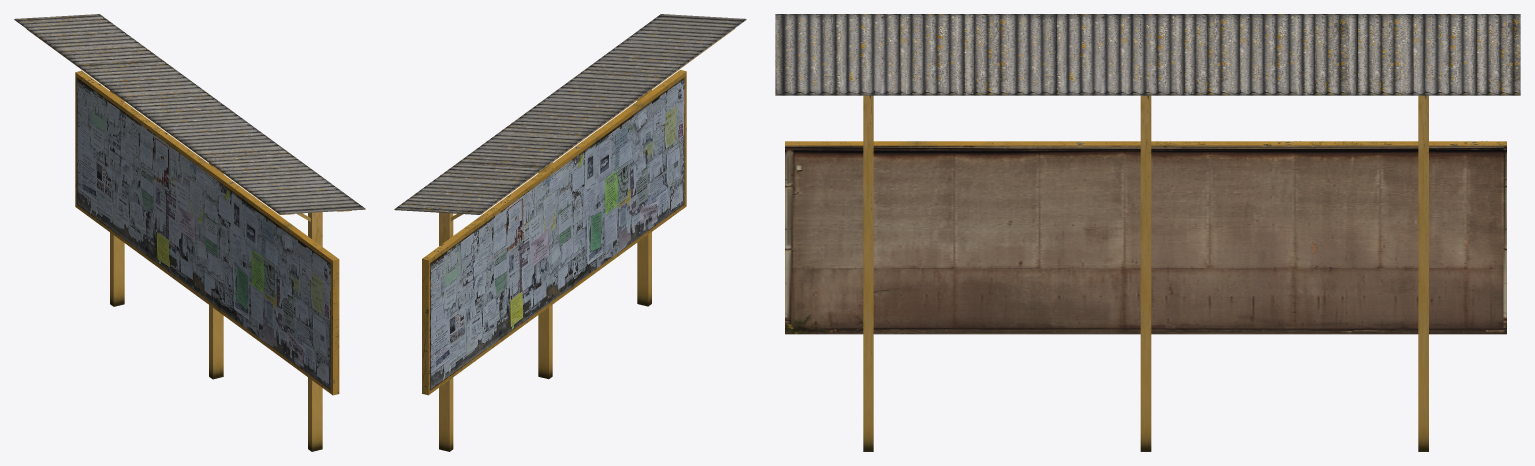
The model's file is d_obyavlenia.FBX.
The picture shows the model from 3 angles, left to right: view 1: azimuth 30°, elevation 25°; view 2: azimuth 150°, elevation 25°; view 3: azimuth 270°, elevation 25°; orthographic projection. The views are drawn at different scales.
Visible parts, largest first — view 1: d_obyavlenia; view 2: d_obyavlenia; view 3: d_obyavlenia.
Boxes of the visible parts, left/top/right/bottom form: d_obyavlenia: left=14, top=14, right=365, bottom=451; d_obyavlenia: left=394, top=14, right=746, bottom=451; d_obyavlenia: left=775, top=14, right=1520, bottom=451.
Bounding box in the file's own units: 0.7961 × 4.3 × 2.47.
